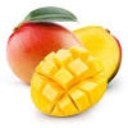mango: (31, 46, 108, 118)
